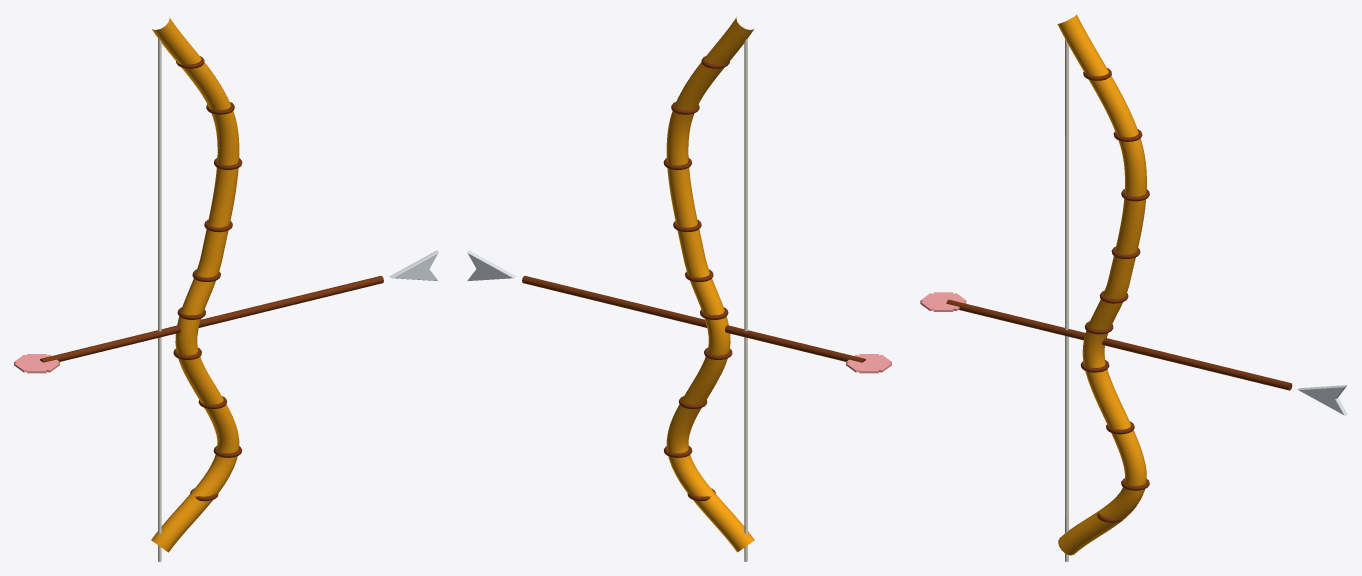
The model's file is bow.glb.
The picture shows the model from 3 angles, left to right: view 1: azimuth 30°, elevation 25°; view 2: azimuth 150°, elevation 25°; view 3: azimuth 330°, elevation 25°; orthographic projection.
Size of the model in its own units: 4.43 by 5.5 by 0.4191.
